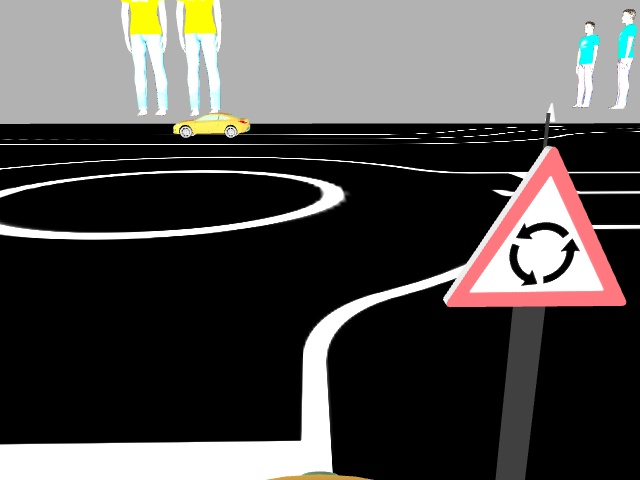Roundabout: (442, 143, 627, 308)
